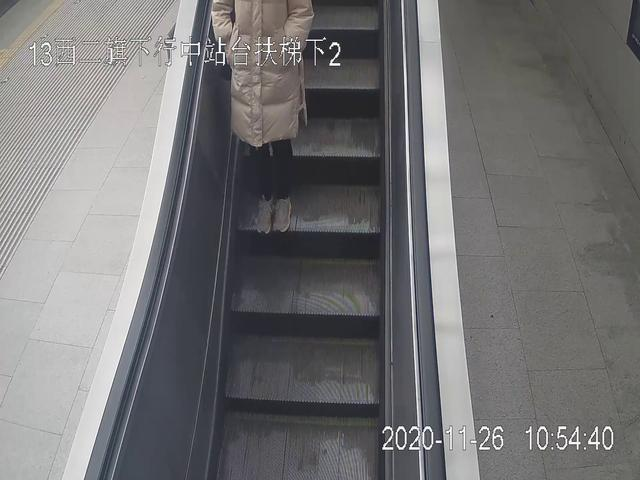person: (209, 1, 313, 233)
